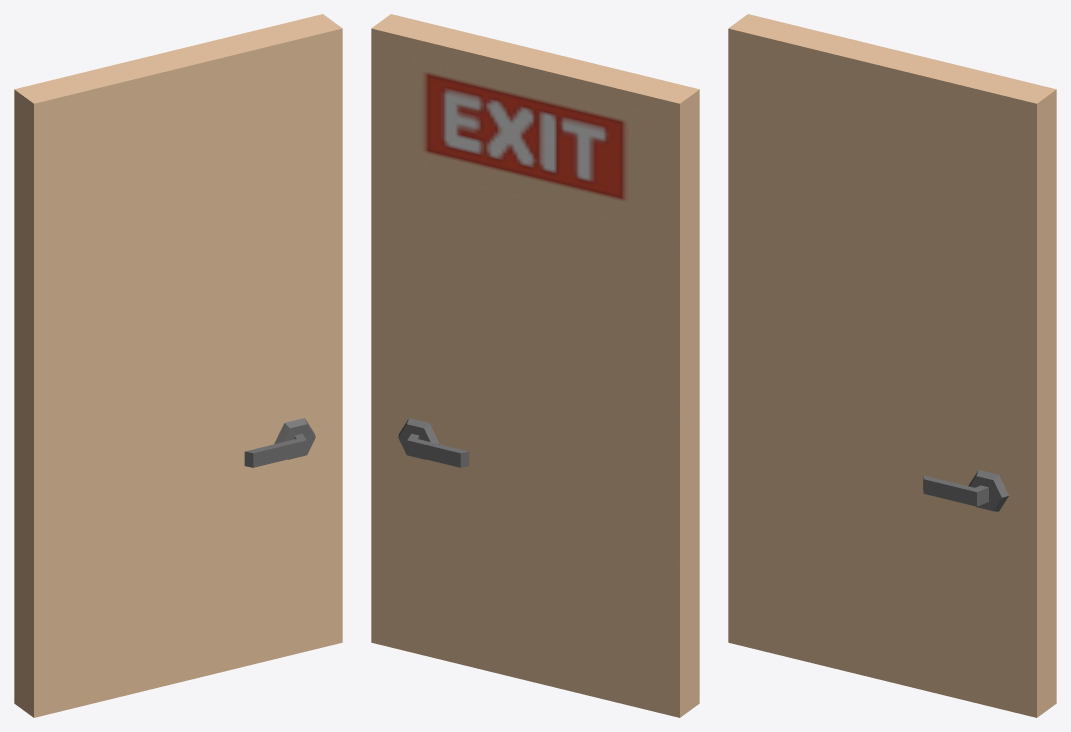
The model's file is Door.FBX.
The picture shows the model from 3 angles, left to right: view 1: azimuth 30°, elevation 25°; view 2: azimuth 150°, elevation 25°; view 3: azimuth 330°, elevation 25°; orthographic projection.
Visible parts, largest first — view 1: Door; view 2: Door; view 3: Door.
Boxes of the visible parts, <box> form: Door: <box>14,14,342,717</box>; Door: <box>371,14,699,717</box>; Door: <box>728,14,1056,717</box>.
Bounding box in the file's own units: 90 × 171 × 22.
1 material, 1 textured.
